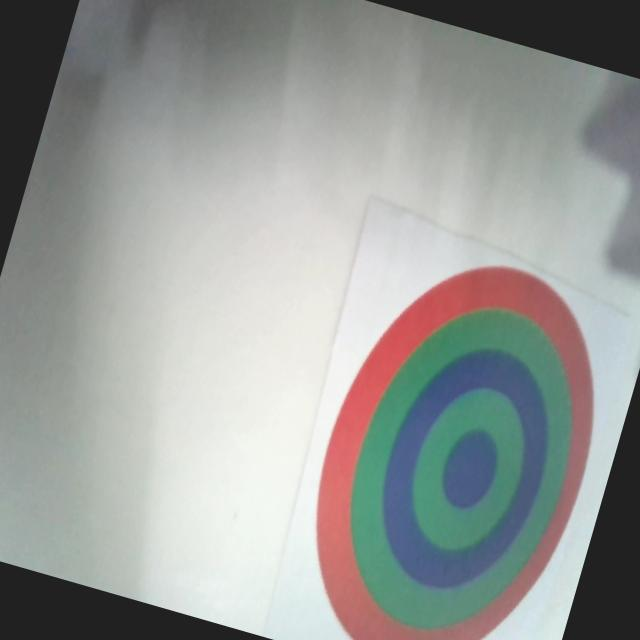cogn: (272, 229, 631, 640)
